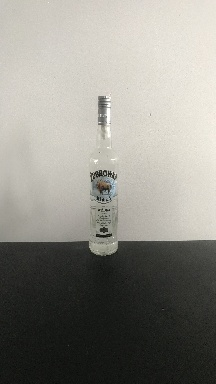butelka: (88, 92, 119, 259)
